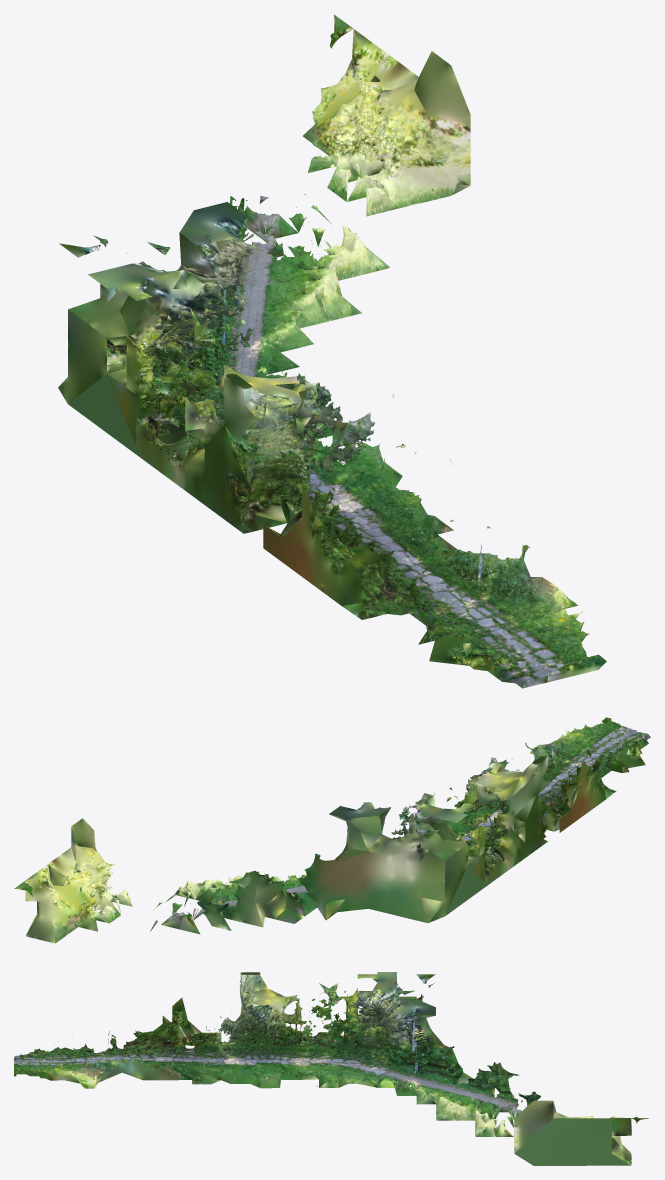
The picture shows the model from 3 angles, top to bottom: view 1: azimuth 30°, elevation 25°; view 2: azimuth 150°, elevation 25°; view 3: azimuth 270°, elevation 25°; orthographic projection. The views are drawn at different scales.
Visible parts, largest first — view 1: Object_2; view 2: Object_2; view 3: Object_2.
Part boxes in pixels (left/top/right/bottom): Object_2: left=58, top=14, right=606, bottom=688; Object_2: left=14, top=717, right=650, bottom=943; Object_2: left=14, top=972, right=648, bottom=1165.
Size of the model in its own units: 20.11 by 5.63 by 44.33.
Materials: 1 (1 with a texture image).
